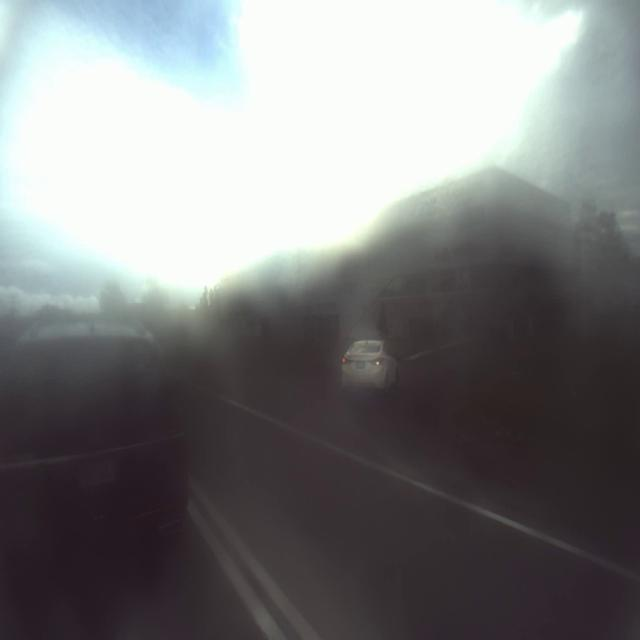car: (333, 326, 404, 401)
